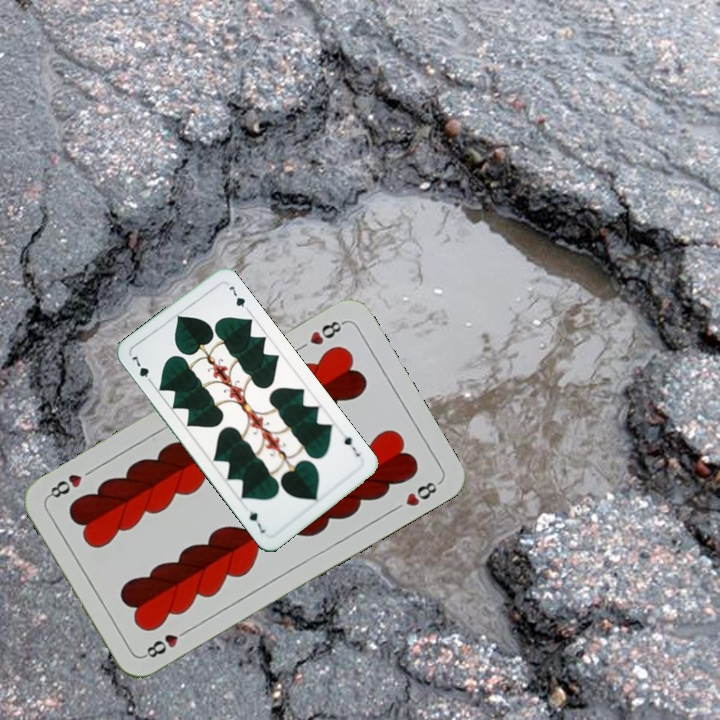G7: (127, 352, 156, 387), (339, 428, 363, 459)
H8: (139, 624, 193, 661), (305, 316, 348, 348)
